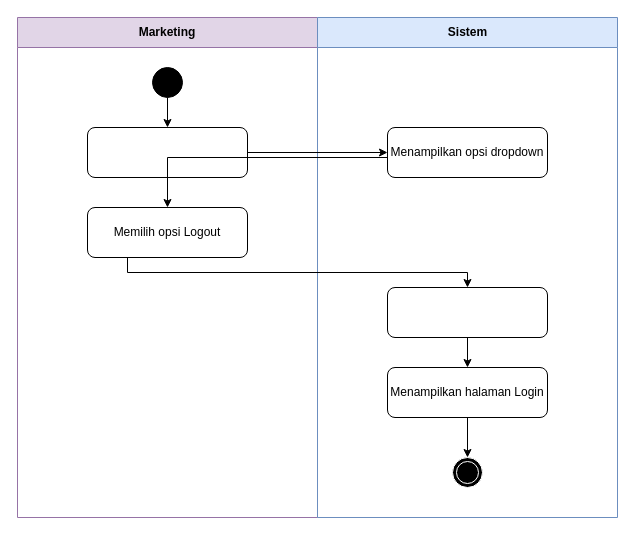
Some shapes in this 635 by 535 pixel diagram are drawn without their labels. Here are the shapes that lost their labels. From the top down, the box of each, then its label:
(86, 126, 248, 178): Mengklik menu profil/akun
(386, 286, 548, 338): Menghapus sesi aktif
